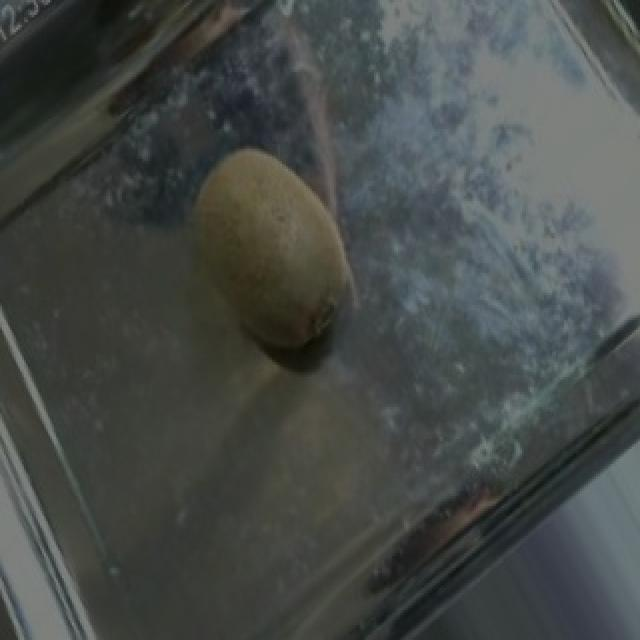Fruit: (156, 119, 386, 385)
